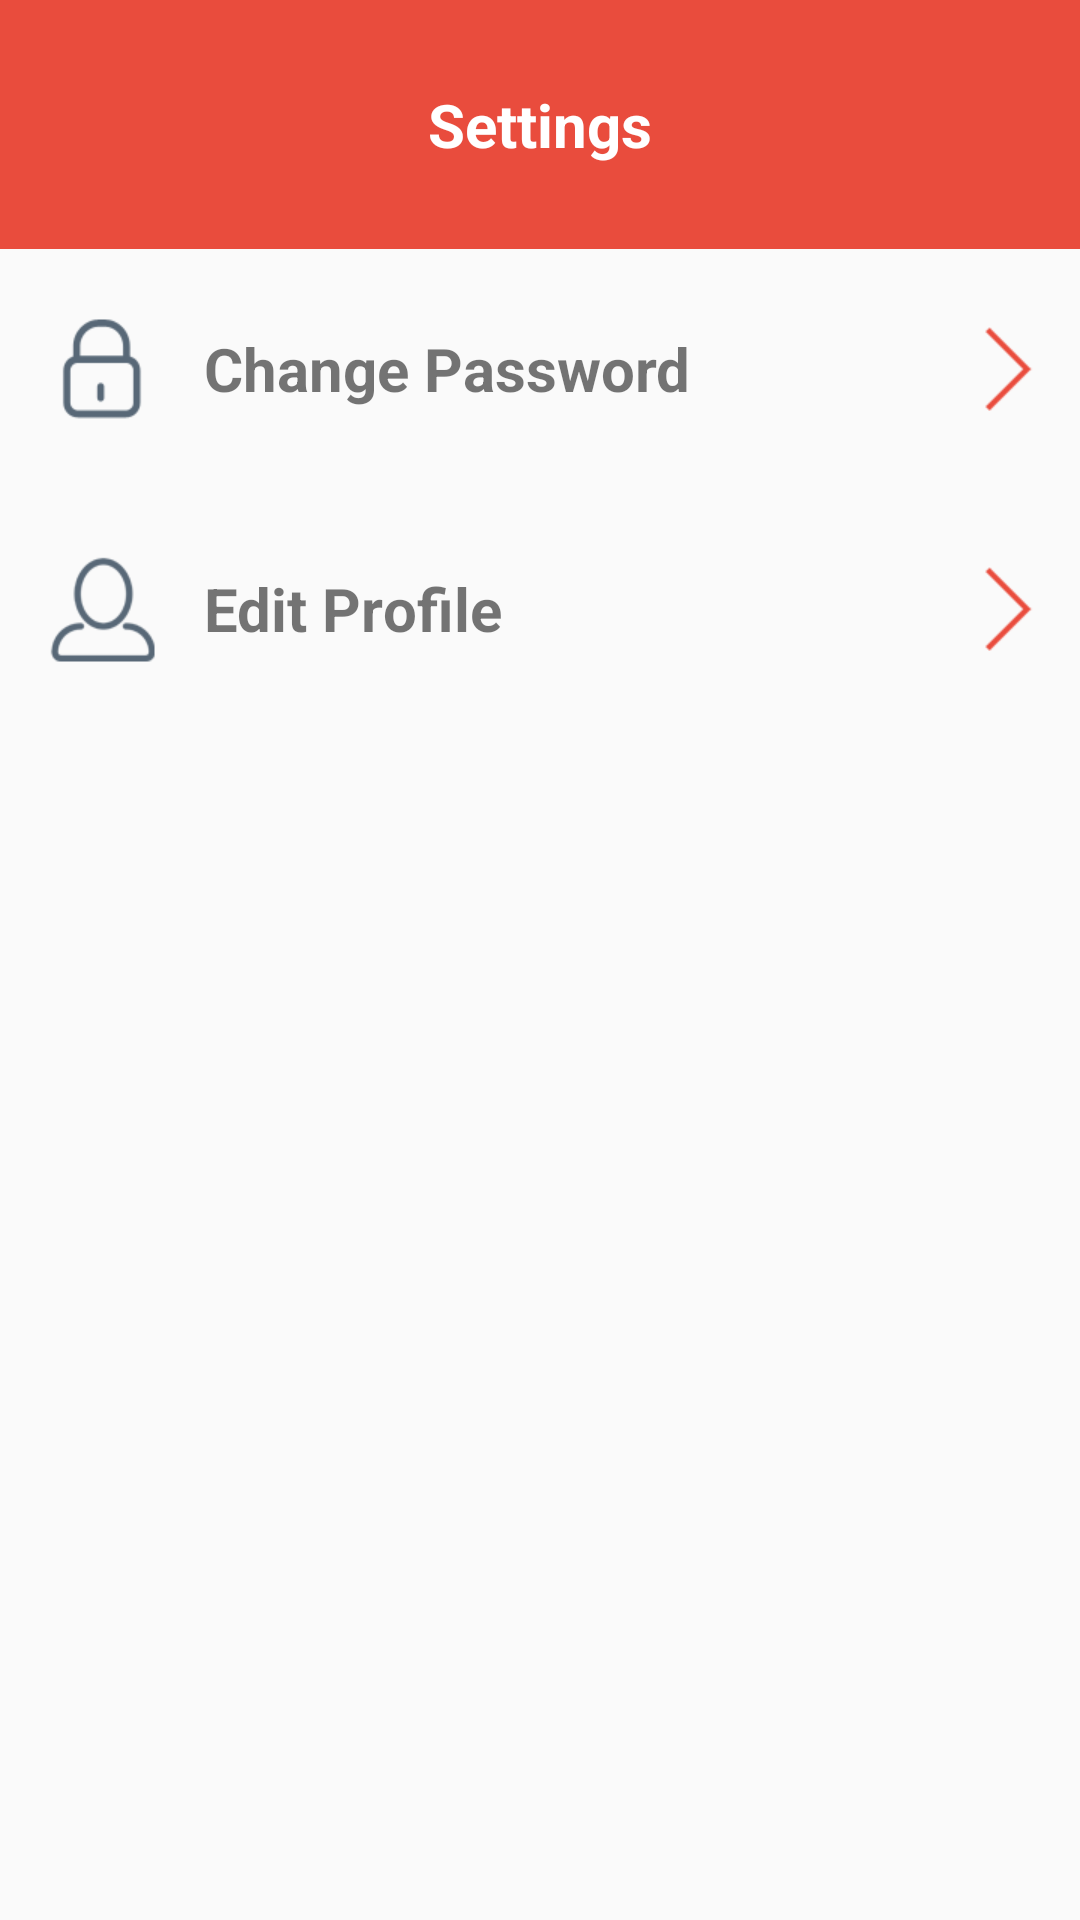

Where to tap for icons on this 1080 x 1920 app screen, as (x=x, y=y):
fullname: (x=103, y=610)
